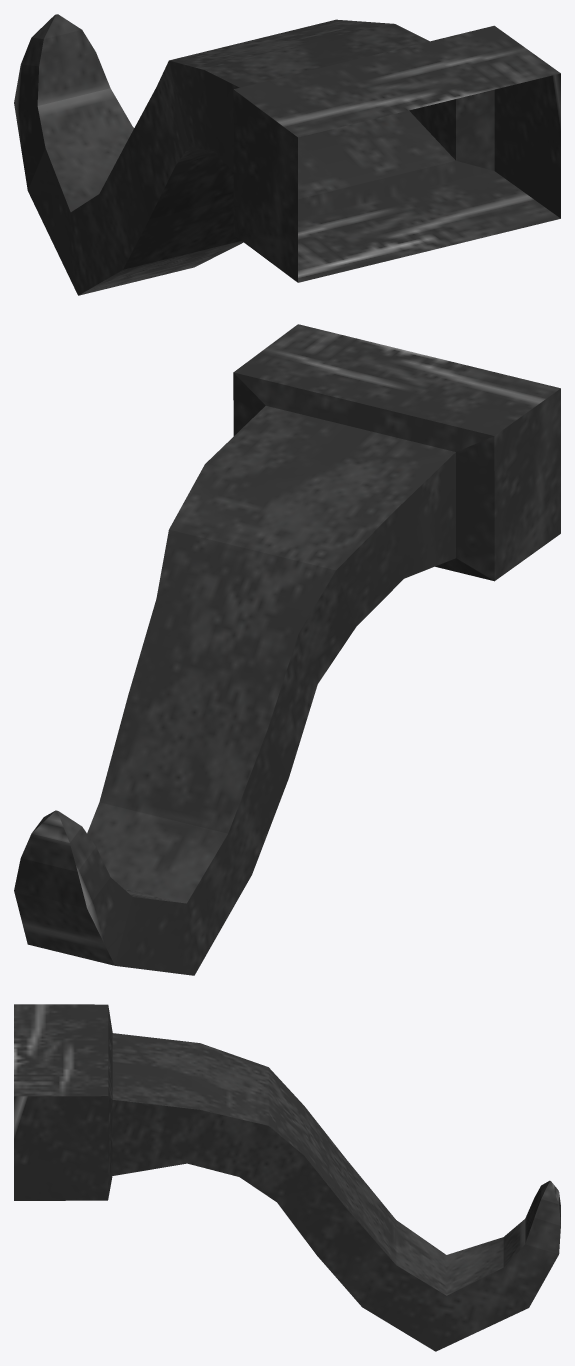
The model's file is MOD_BrazierHook.fbx.
3 views of the same model, one above another, from view 1: azimuth 30°, elevation 25°; view 2: azimuth 150°, elevation 25°; view 3: azimuth 270°, elevation 25° (orthographic). The views are drawn at different scales.
Visible parts, largest first — view 1: MOD_BrazierHook; view 2: MOD_BrazierHook; view 3: MOD_BrazierHook.
Boxes of the visible parts, <box> form: MOD_BrazierHook: <box>14,14,560,295</box>; MOD_BrazierHook: <box>14,324,560,975</box>; MOD_BrazierHook: <box>14,1004,560,1351</box>.
Size of the model in its own units: 15 by 21.3 by 37.58.
1 material, 1 textured.
